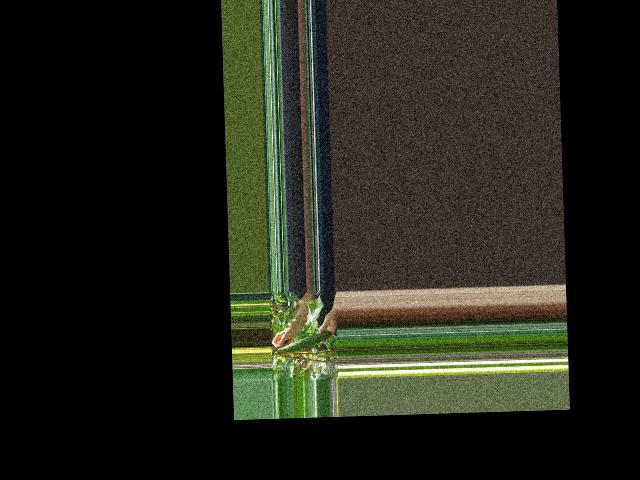cucumber: (277, 330, 332, 353)
